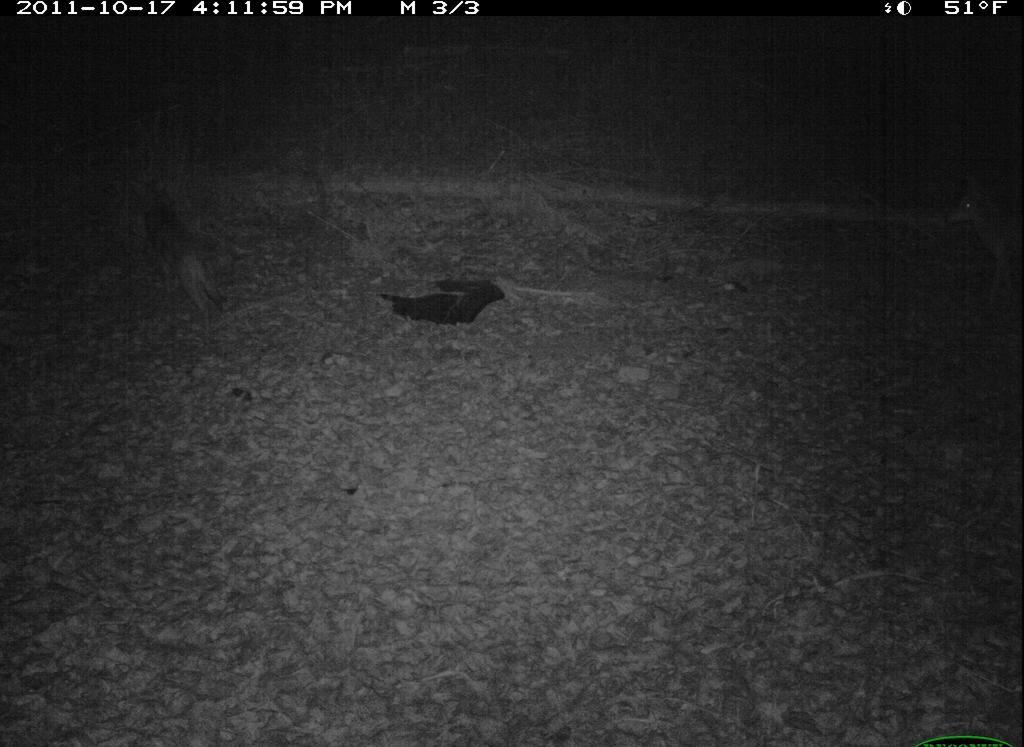coyote: (128, 172, 231, 352)
